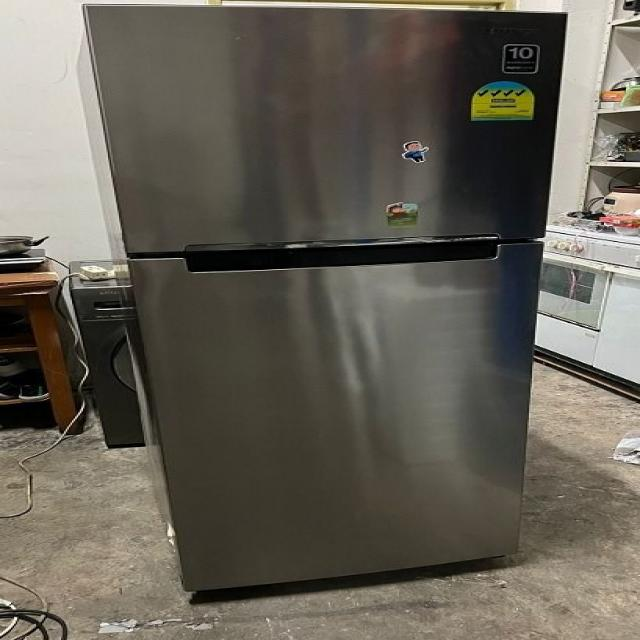refrigerator: (78, 2, 570, 592)
